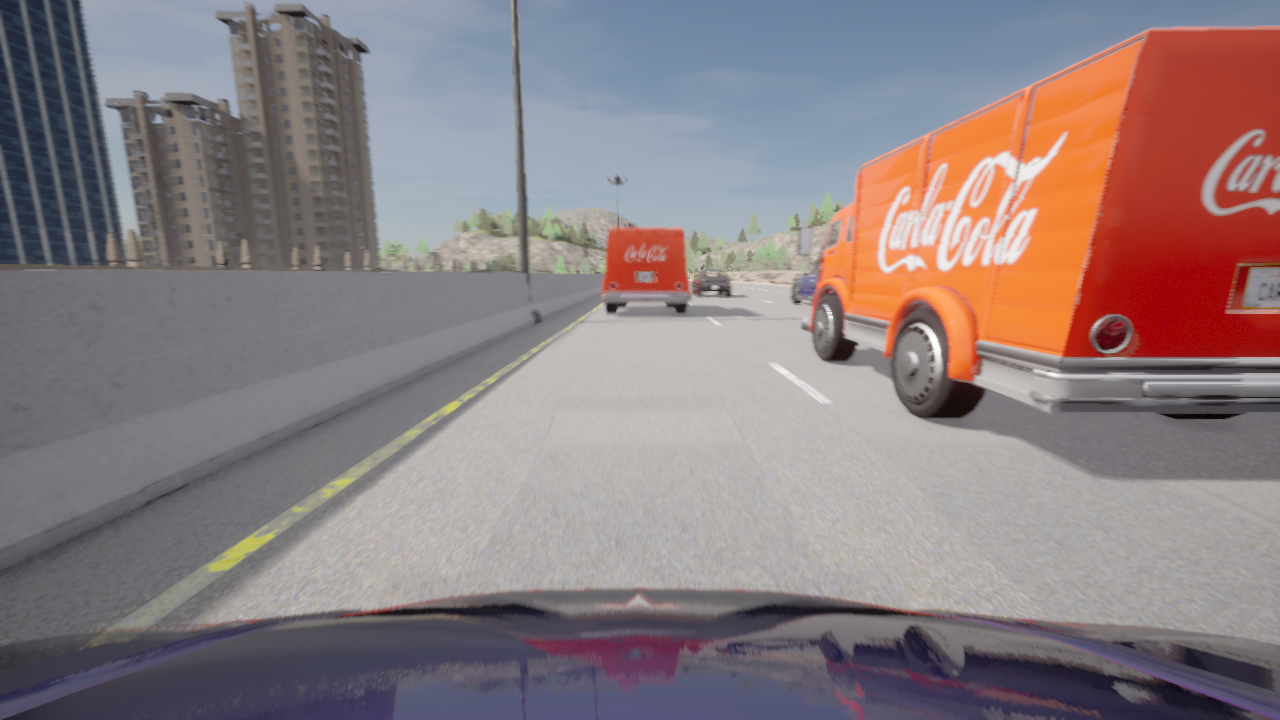cyclist: (797, 26, 1279, 419), (0, 588, 1279, 719), (602, 228, 690, 312), (692, 268, 730, 296), (792, 263, 818, 303)
